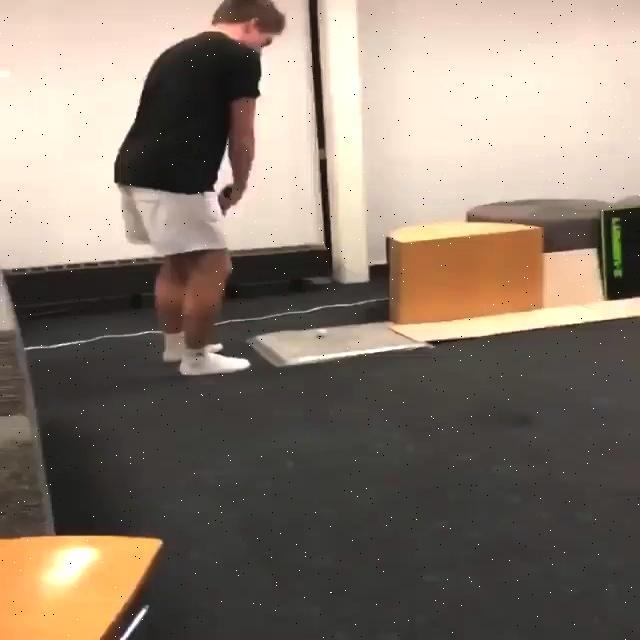golf ball: (313, 327, 327, 338)
golf club-handle: (220, 185, 234, 212)
